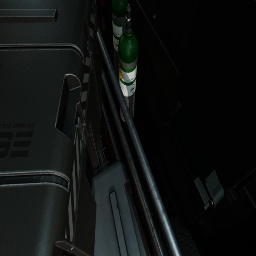0: (118, 4, 138, 122), (112, 0, 128, 80)
NitrogenTank ,: (96, 0, 103, 55), (100, 0, 109, 32)
